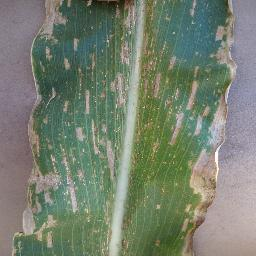Gray_Leaf_Spot: (8, 0, 242, 256)
